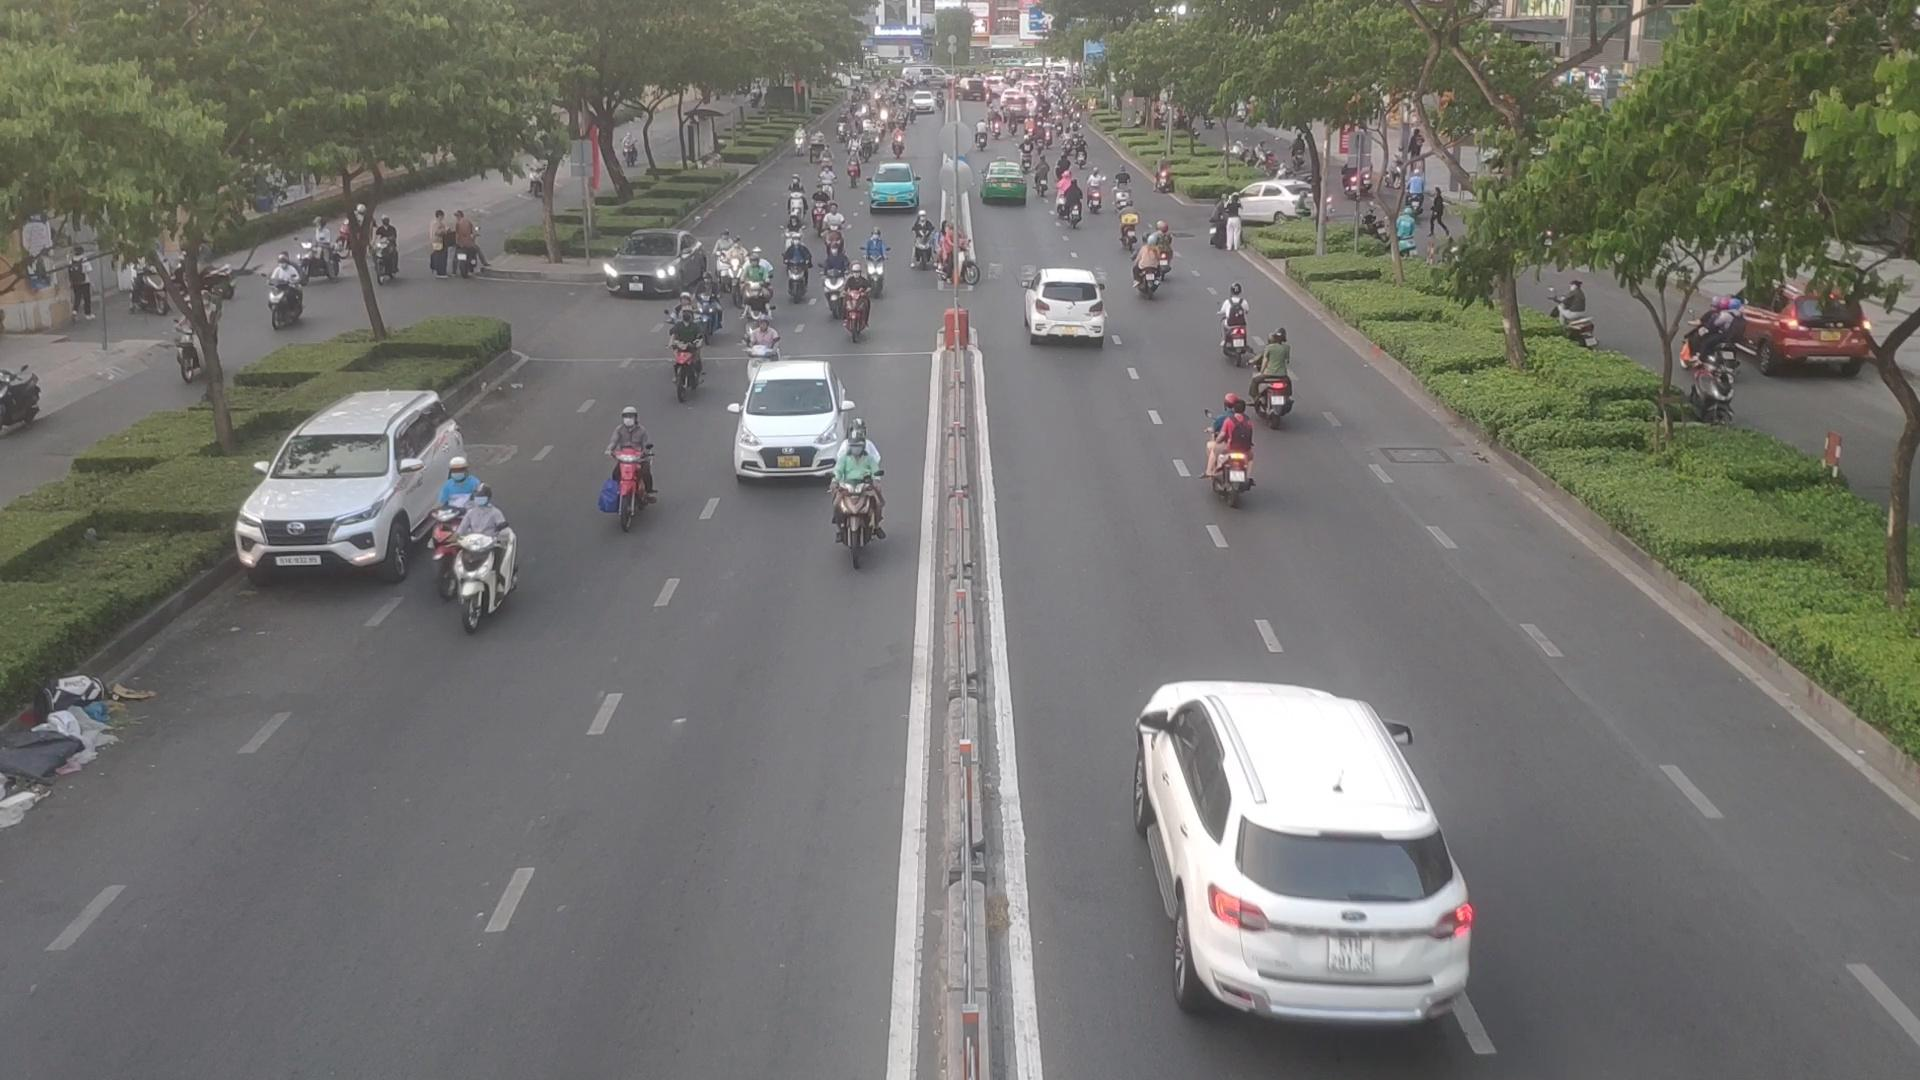car: (1142, 687, 1484, 1030), (231, 392, 479, 585), (728, 361, 851, 480), (603, 232, 709, 301), (1022, 266, 1113, 345), (982, 162, 1031, 214), (866, 169, 923, 212)
motorbike: (435, 516, 521, 629), (600, 409, 663, 541), (429, 447, 483, 597), (829, 429, 885, 562), (1208, 400, 1255, 505), (1251, 336, 1302, 419), (667, 295, 702, 407), (742, 313, 791, 388), (816, 247, 852, 338), (1215, 281, 1251, 367), (837, 264, 877, 338), (735, 247, 767, 328), (865, 223, 894, 294), (1129, 236, 1160, 299), (705, 220, 737, 282), (823, 200, 856, 252), (1149, 218, 1176, 278), (910, 210, 938, 270), (785, 237, 808, 307), (699, 276, 723, 344), (1112, 204, 1139, 255), (778, 178, 808, 222), (1112, 167, 1138, 215), (779, 214, 803, 255), (1065, 179, 1084, 224), (810, 189, 825, 237), (1087, 167, 1102, 214)
